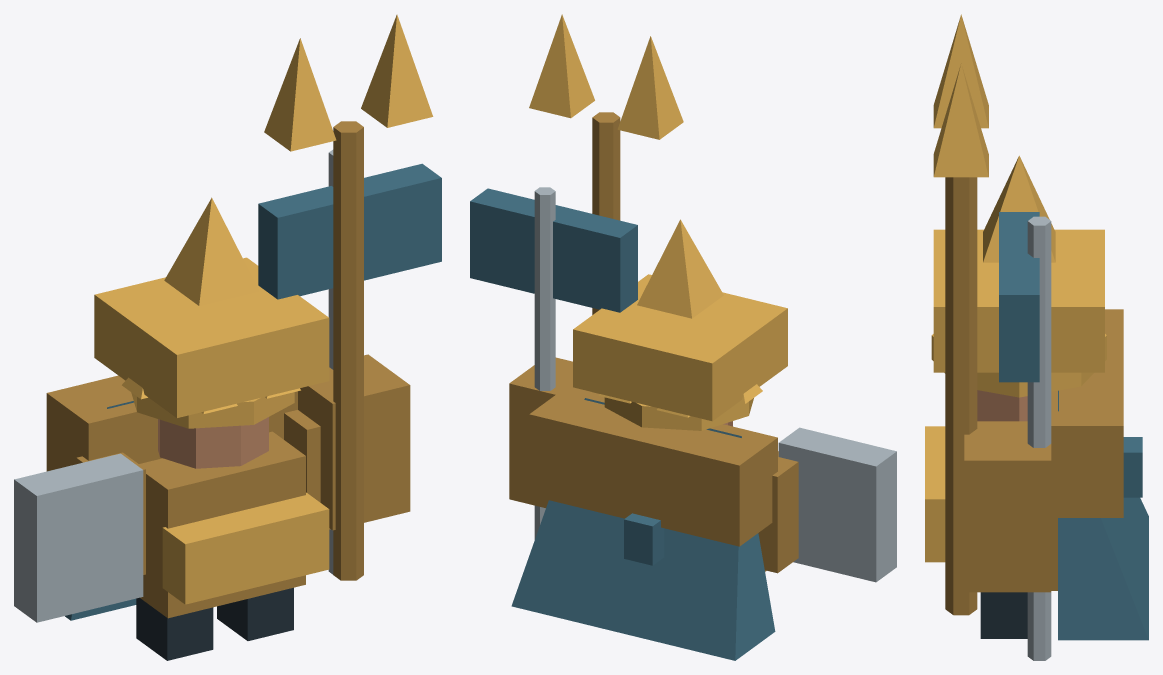
Rendered from converter.obj.
The picture shows the model from 3 angles, left to right: view 1: azimuth 30°, elevation 25°; view 2: azimuth 150°, elevation 25°; view 3: azimuth 270°, elevation 25°; orthographic projection. The views are drawn at different scales.
Parts seen in each view (by area): view 1: hero; view 2: hero; view 3: hero.
Boxes of the visible parts, bbox=[...] form: hero: bbox=[14, 14, 441, 660]; hero: bbox=[470, 14, 896, 660]; hero: bbox=[925, 14, 1148, 660].
Size of the model in its own units: 1.76 by 2.37 by 0.7714.
